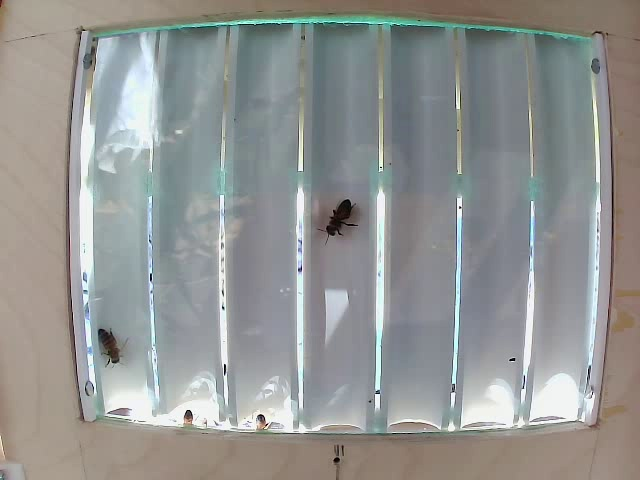bee: (323, 196, 360, 241)
